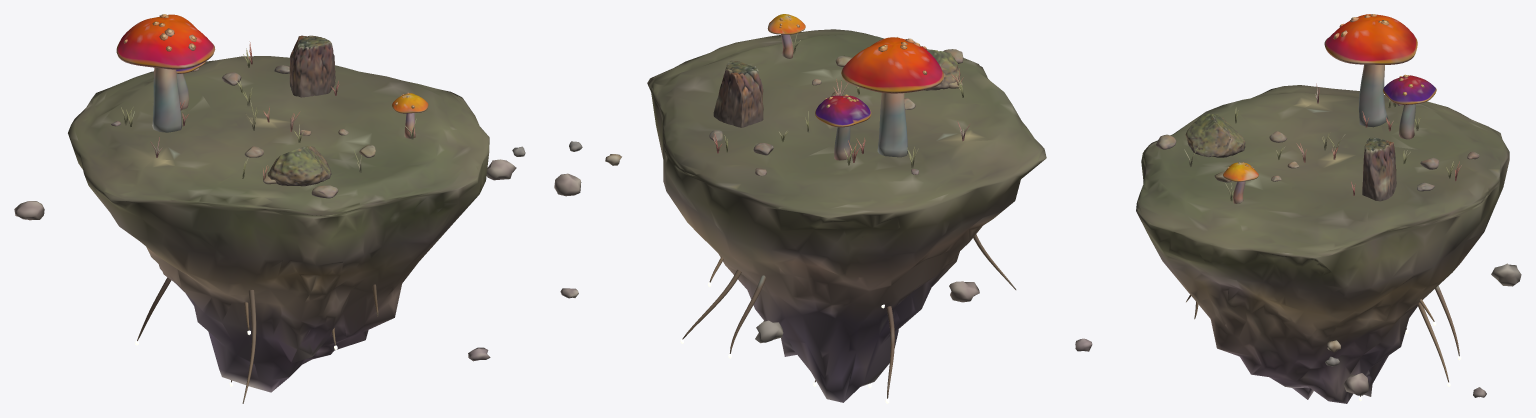
File: ucan_ada.glb
3 renders of one model, left to right at view 1: azimuth 30°, elevation 25°; view 2: azimuth 150°, elevation 25°; view 3: azimuth 270°, elevation 25°, orthographic. The views are drawn at different scales.
Visible parts, largest first — view 1: ucan_ada_LOD0; view 2: ucan_ada_LOD0; view 3: ucan_ada_LOD0.
Boxes of the visible parts, x1,y1,x2,y2 form: ucan_ada_LOD0: (14,14,525,403); ucan_ada_LOD0: (554,14,1046,403); ucan_ada_LOD0: (1075,14,1521,403).
Size of what is drawn, in the model's own units: 8.98 by 6.9 by 7.96.
